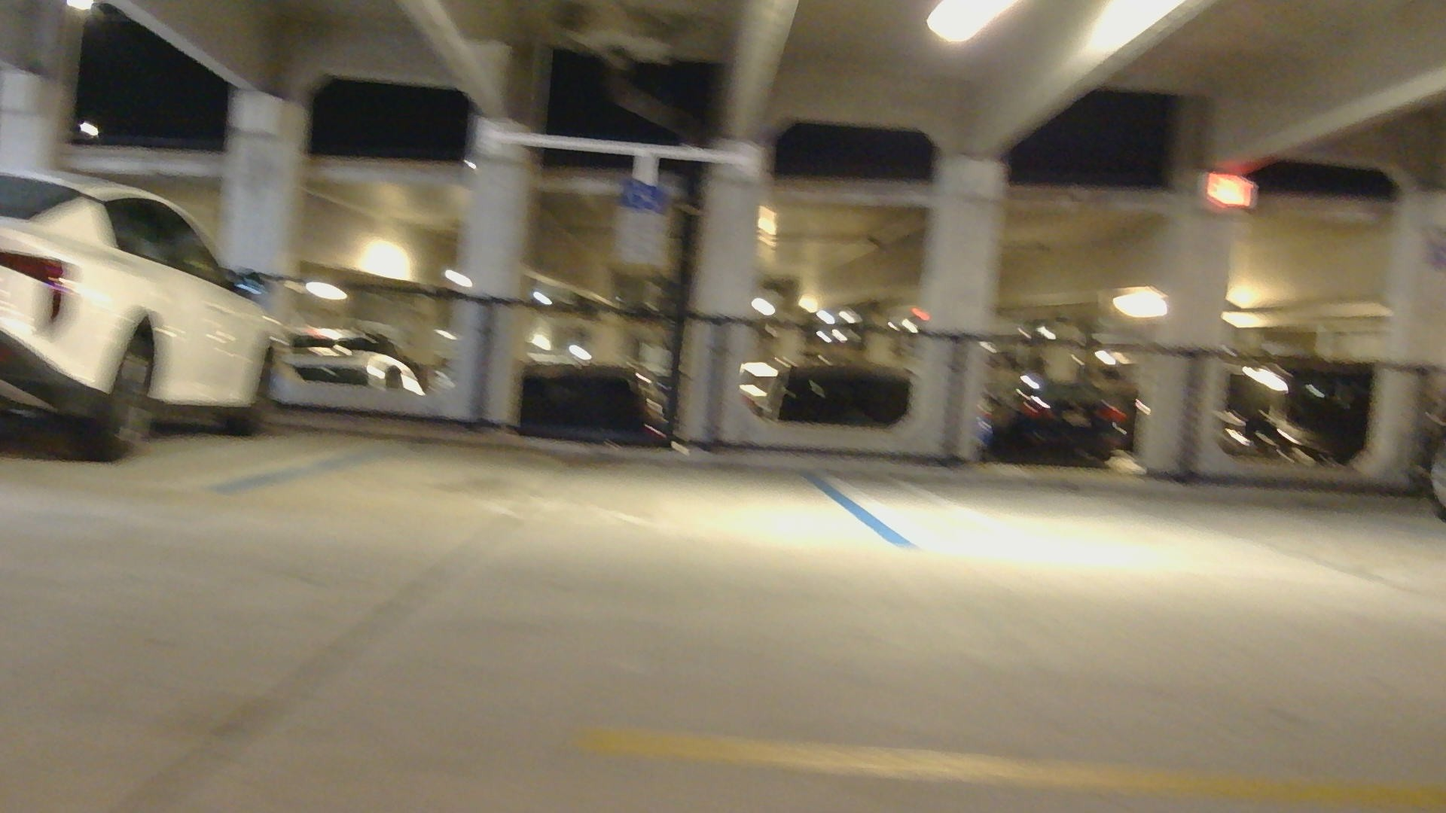empty_spot: (228, 345, 928, 546), (879, 386, 1413, 580)
occupied_spot: (8, 167, 274, 459)
